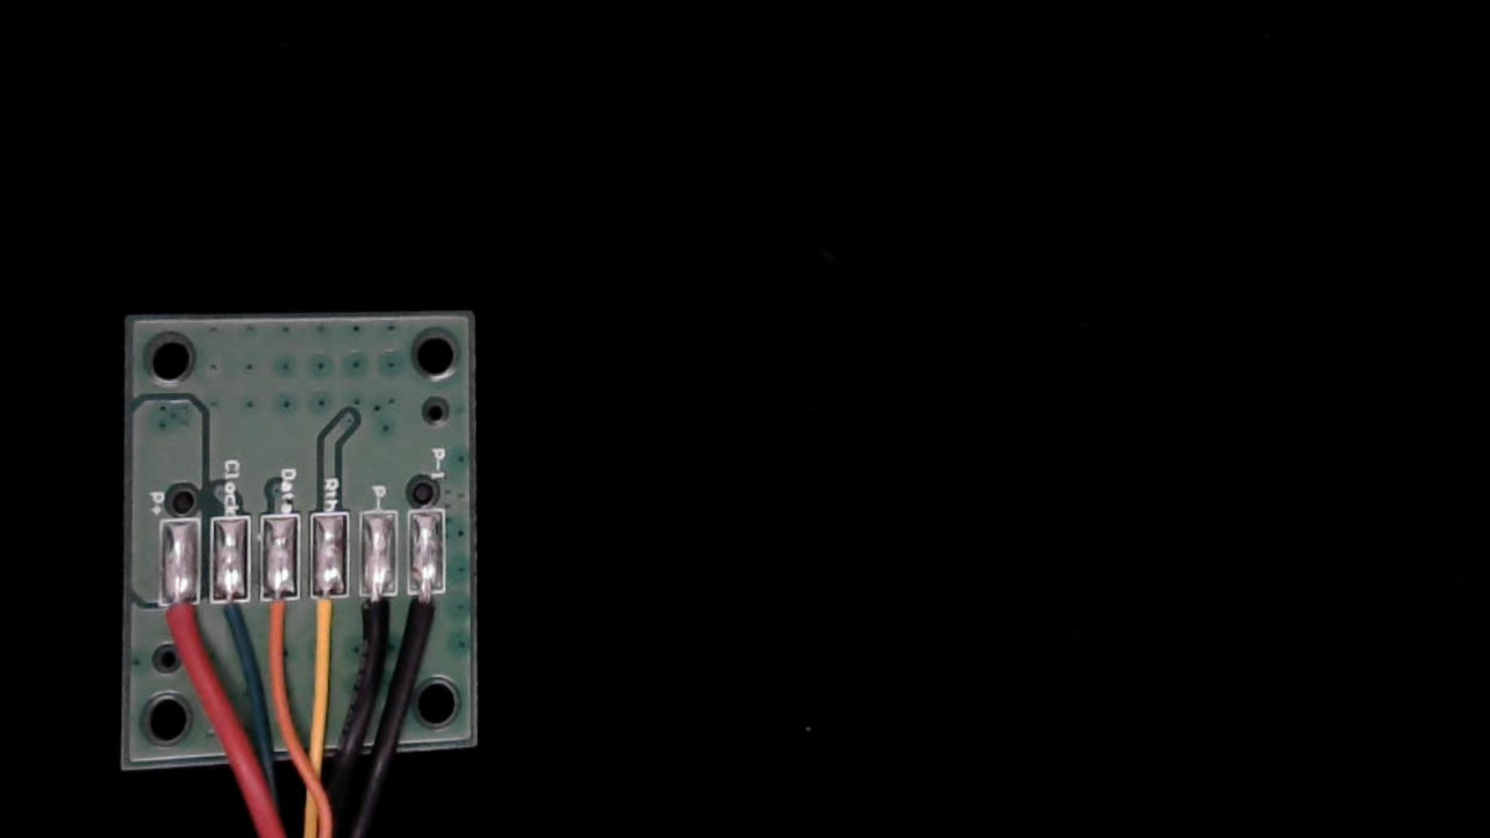Black: (358, 573, 397, 656)
Black1: (408, 568, 449, 657)
Green: (211, 575, 255, 669)
Orange: (260, 574, 301, 670)
Red: (159, 580, 202, 674)
Yellow: (307, 576, 350, 675)
